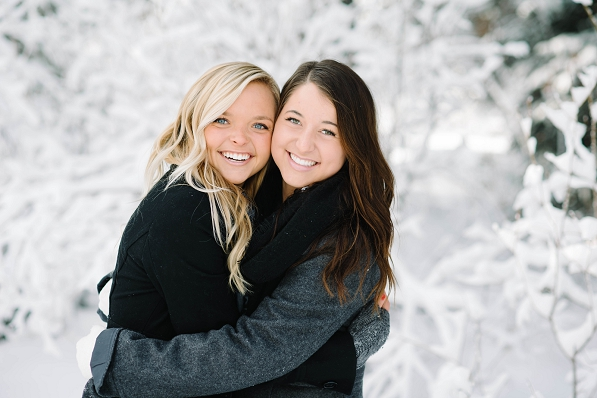bare: (271, 137, 344, 188), (205, 131, 266, 183)
